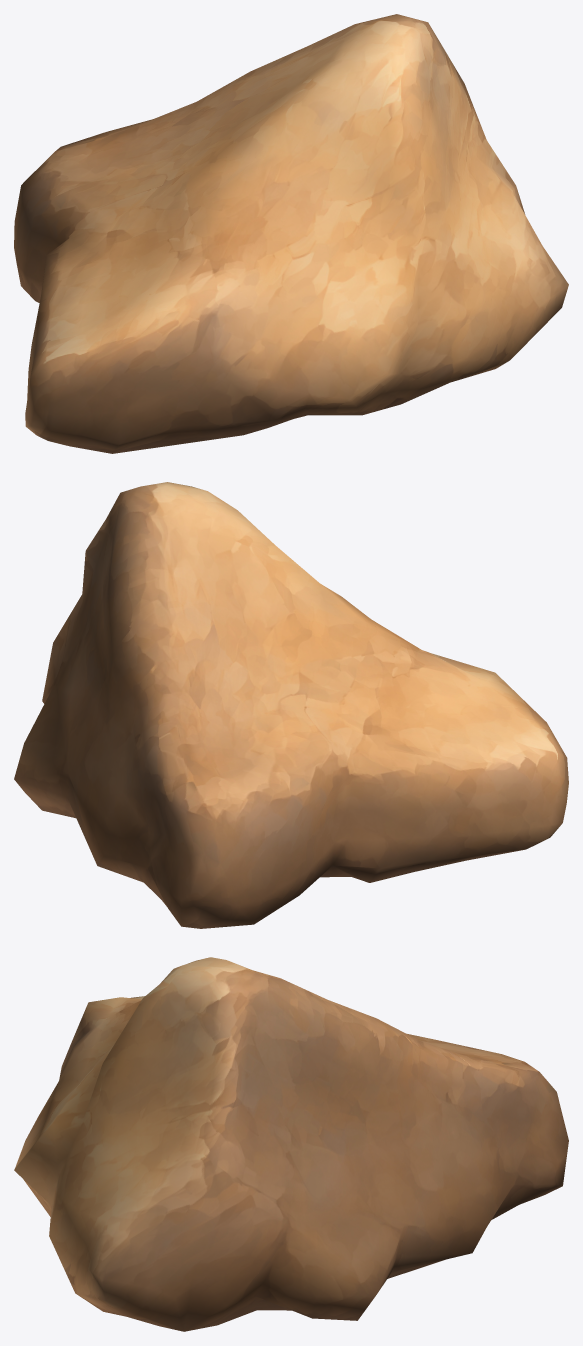
The model's file is Small_Rock2.fbx.
3 renders of one model, top to bottom at view 1: azimuth 30°, elevation 25°; view 2: azimuth 150°, elevation 25°; view 3: azimuth 270°, elevation 25°, orthographic. The views are drawn at different scales.
Parts seen in each view (by area): view 1: tripo_node_993d24d5; view 2: tripo_node_993d24d5; view 3: tripo_node_993d24d5.
Boxes of the visible parts, <box> form: tripo_node_993d24d5: <box>14,14,568,453</box>; tripo_node_993d24d5: <box>14,482,568,928</box>; tripo_node_993d24d5: <box>14,957,568,1331</box>.
Bounding box in the file's own units: 100 × 90.99 × 58.84.
